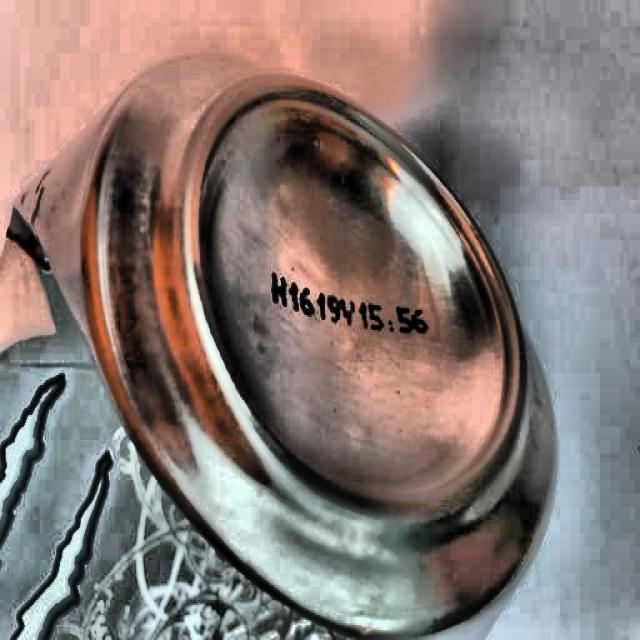metal: (4, 58, 564, 640)
